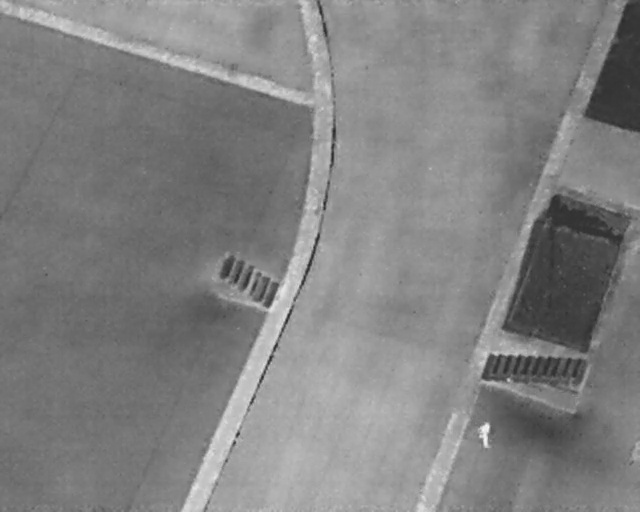Person: (477, 420, 492, 451)
